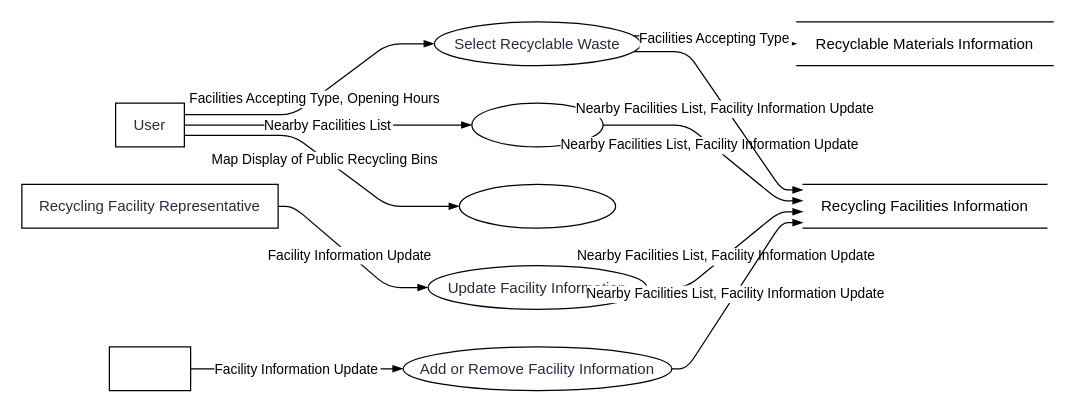
The diagram is 1075 pixels wide and 413 high, and some of its shapes have lost their labels. Each missing label, with the centre of its shape:
Admin: point 149,368
Enter Zip Code: point 537,124
View Map Display: point 537,205
